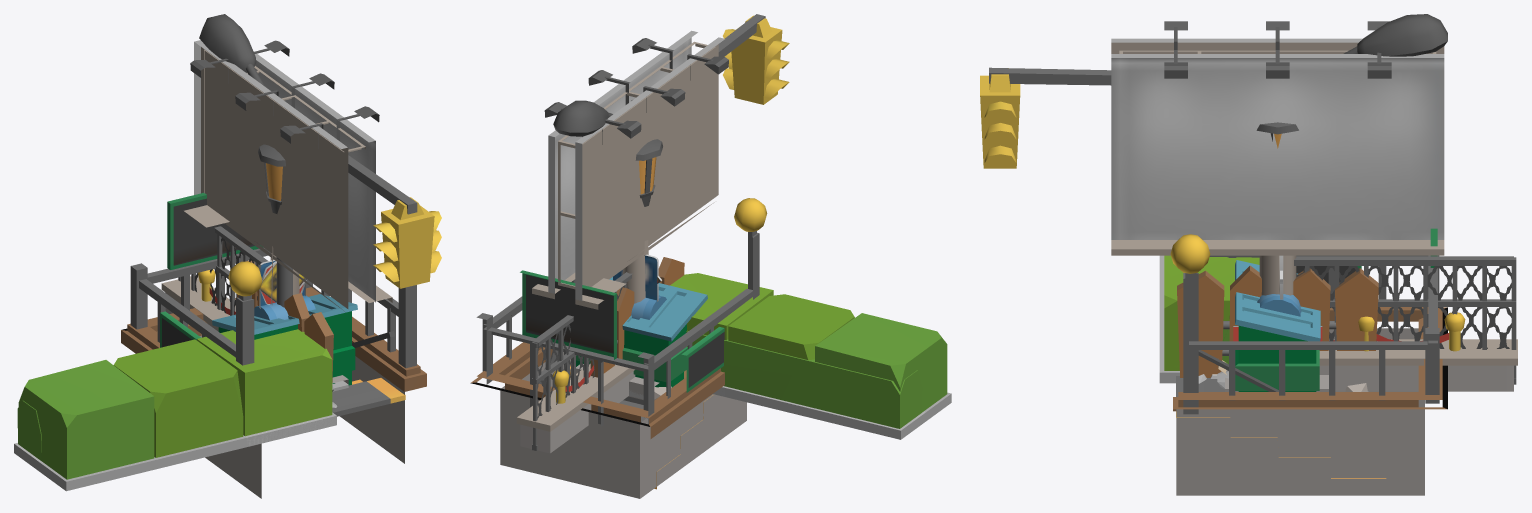
Rendered from props_model.fbx.
3 views of the same model, side by side, from view 1: azimuth 30°, elevation 25°; view 2: azimuth 150°, elevation 25°; view 3: azimuth 270°, elevation 25° (orthographic). The views are drawn at different scales.
Visible parts, largest first — view 1: billboard_01, hedge_01_3x, underground, ligth_traffic, hedge_01_1x, trash_can_01, street_lamp_01, fence_06, fence_05_02, hedge_02_3x, street_lamp_02, fence_04_02 (+4 smaller); view 2: underground, billboard_01, hedge_01_3x, hedge_02_3x, ligth_traffic, trash_can_01, fence_05_02, fence_04_02, fence_06, street_lamp_01, fence_03_02, street_lamp_02 (+3 smaller); view 3: billboard_01, underground, fence_06, fence_05_02, trash_can_01, fence_03_02, ligth_traffic, fence_04_02, hedge_01_3x, street_lamp_01, fence_01, hedge_01_1x (+1 smaller).
Part boxes in pixels (box(x1,y1,x2,y2)): billboard_01: box(184, 40, 392, 384); hedge_01_3x: box(14, 336, 336, 491); underground: box(121, 192, 426, 498); ligth_traffic: box(276, 155, 441, 307); hedge_01_1x: box(207, 329, 336, 446); trash_can_01: box(212, 294, 357, 385); street_lamp_01: box(199, 14, 290, 105); fence_06: box(237, 260, 333, 382); fence_05_02: box(161, 276, 235, 331); hedge_02_3x: box(14, 400, 42, 462); street_lamp_02: box(258, 144, 285, 213); fence_04_02: box(178, 228, 261, 315); underground: box(470, 198, 767, 498); billboard_01: box(532, 30, 728, 399); hedge_01_3x: box(684, 273, 951, 439); hedge_02_3x: box(686, 330, 925, 430); ligth_traffic: box(718, 14, 789, 104); trash_can_01: box(576, 277, 707, 387); fence_05_02: box(516, 363, 635, 453); fence_04_02: box(532, 275, 631, 450); fence_06: box(590, 257, 684, 377); street_lamp_01: box(553, 100, 632, 136); fence_03_02: box(532, 272, 632, 418); street_lamp_02: box(635, 139, 662, 206); billboard_01: box(1111, 21, 1444, 391); underground: box(1170, 228, 1447, 495); fence_06: box(1177, 265, 1378, 377); fence_05_02: box(1319, 339, 1517, 391); trash_can_01: box(1235, 260, 1320, 391); fence_03_02: box(1294, 256, 1513, 348); ligth_traffic: box(980, 67, 1111, 168); fence_04_02: box(1305, 257, 1516, 384); hedge_01_3x: box(1159, 255, 1259, 383); street_lamp_01: box(1343, 14, 1447, 56); fence_01: box(1333, 312, 1465, 351); hedge_01_1x: box(1160, 258, 1259, 372).
Size of the model in its own units: 41.07 by 41.1 by 45.55.
